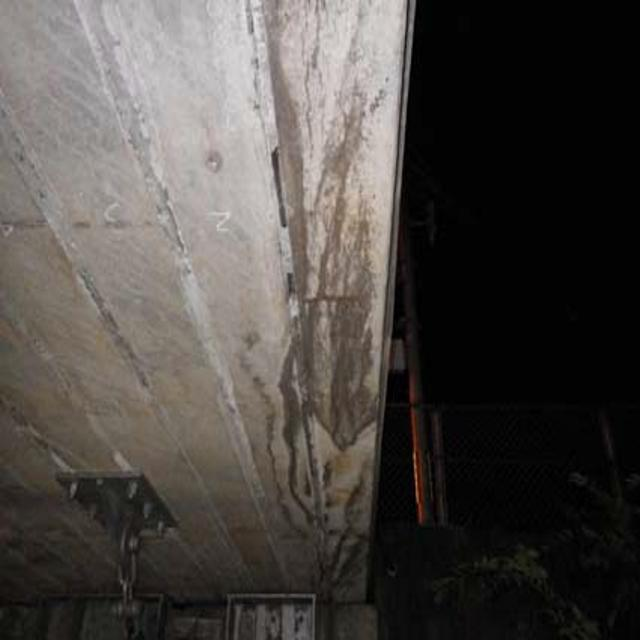leakage: (254, 91, 364, 592)
